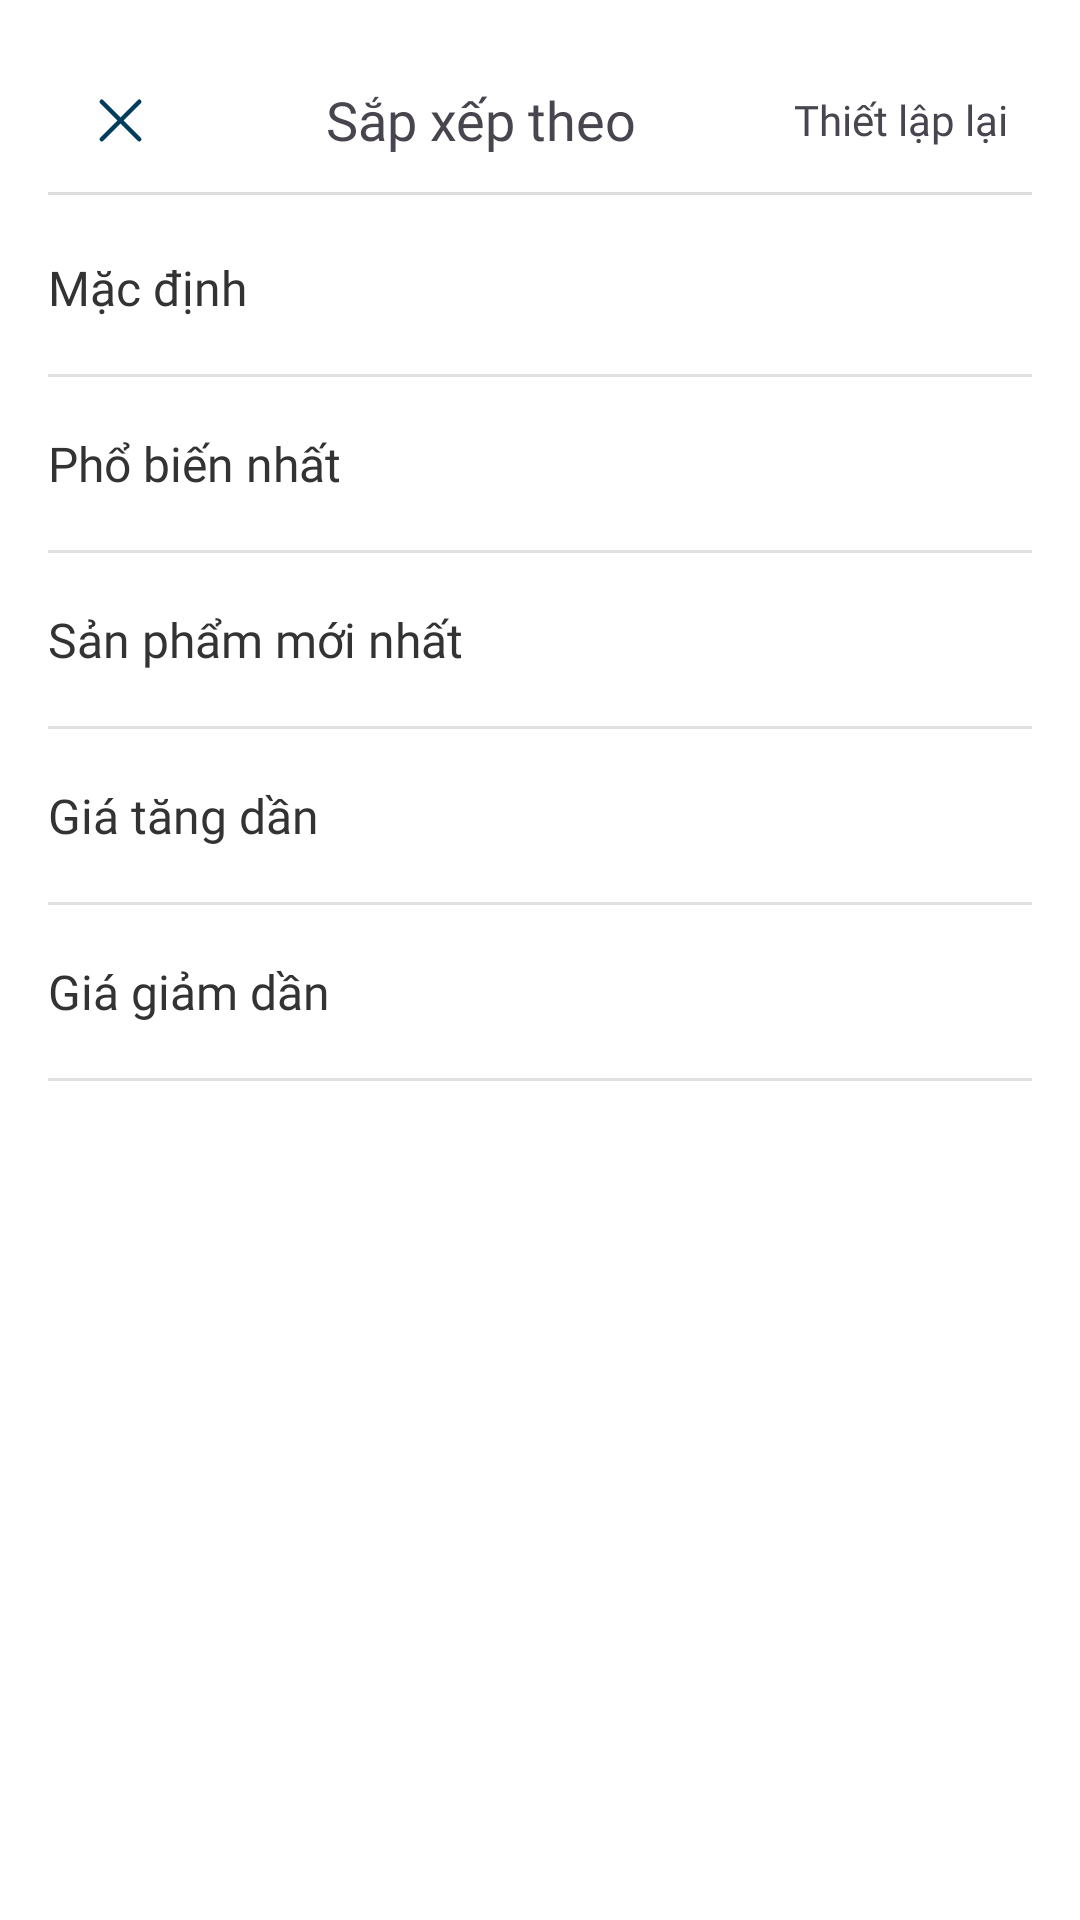

Icon bounding boxes for this 1080*1920 phone screenshot, format bbox(x1, y1, x2, y2):
Close: bbox(99, 99, 142, 142)
